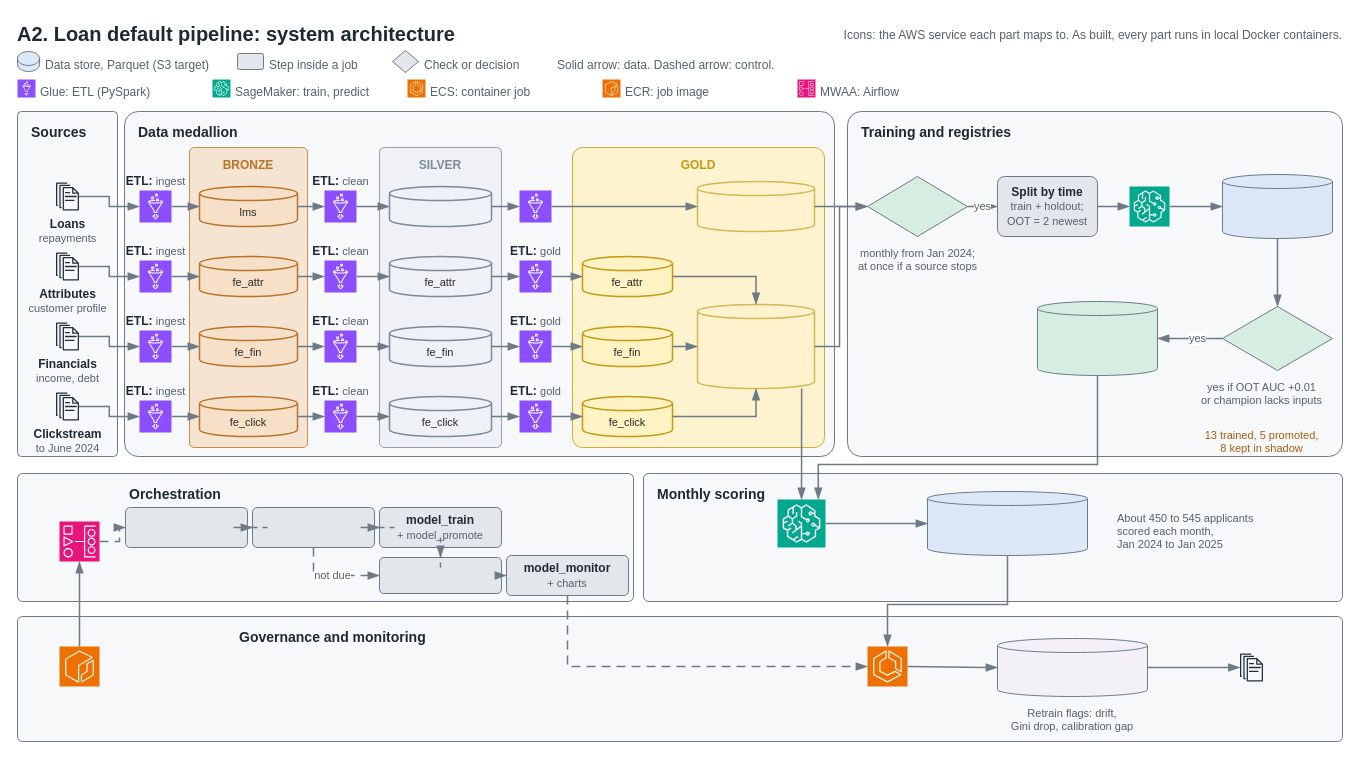
Some shapes in this 1360 by 759 pixel diagram are drawn without their labels. Each missing label, with the centre of its shape:
"17 data tasks source checks, medallion" belongs at point 186,527.
"Airflow 1st of each month" belongs at point 79,541.
"Charts Gini, PSI, calibration, shadows" belongs at point 1251,667.
"ETL: labels" belongs at point 535,206.
"Feature store joined per applicant and application date" belongs at point 755,346.
"Job image Airflow 2.10.5, Java 17, PySpark" belongs at point 79,666.
"Labels store 30dpd_6mob" belongs at point 755,206.
"loan_daily" belongs at point 440,206.
"Model bank model + metadata" belongs at point 1277,206.
"Model registry versioned runs, reason, one-row rollback" belongs at point 1097,338.
"model_inference" belongs at point 440,575.
"model_train_gate" belongs at point 313,527.
"Monitor PSI, CSI now; Gini, KS, calibration once labelled" belongs at point 887,666.
"Monitoring store gold/model_monitoring" belongs at point 1072,667.
"Predict champion decides; shadows logged" belongs at point 801,523.
"Predictions store one score per applicant gold/model_predictions" belongs at point 1007,523.
"Promote?" belongs at point 1277,338.
"Train due?" belongs at point 917,206.
"Train LR vs XGBoost, best holdout Gini" belongs at point 1149,206.
